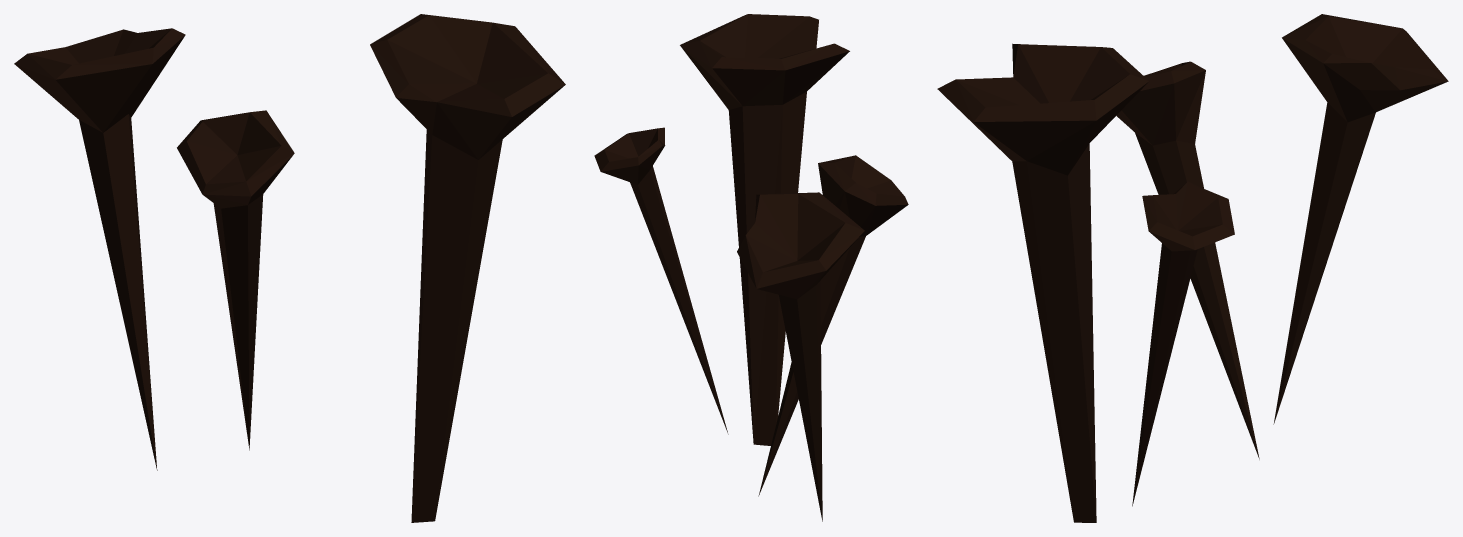
The model's file is mushroom-chanterelle-mature-a.fbx.
The picture shows the model from 3 angles, left to right: view 1: azimuth 30°, elevation 25°; view 2: azimuth 150°, elevation 25°; view 3: azimuth 270°, elevation 25°; orthographic projection. The views are drawn at different scales.
Visible parts, largest first — view 1: mushroom-chanterelle-mature-a; view 2: mushroom-chanterelle-mature-a; view 3: mushroom-chanterelle-mature-a.
Part boxes in pixels (box(x1,y1,x2,y2)): mushroom-chanterelle-mature-a: box(14, 14, 565, 522); mushroom-chanterelle-mature-a: box(594, 14, 908, 521); mushroom-chanterelle-mature-a: box(937, 14, 1448, 522).
Size of the model in its own units: 279 by 324 by 326.
